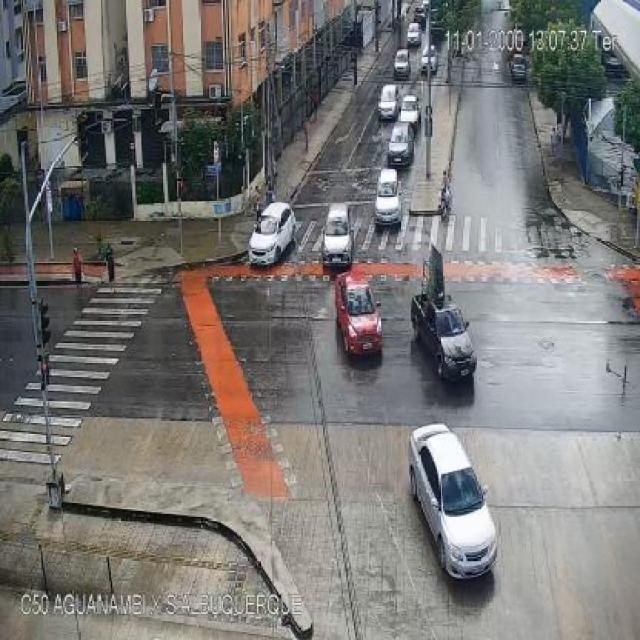Car: (408, 420, 506, 584), (331, 270, 384, 364), (246, 201, 296, 269), (320, 204, 352, 271), (370, 170, 404, 231), (386, 123, 417, 169), (376, 82, 401, 122), (397, 94, 420, 133), (391, 48, 412, 80), (510, 54, 528, 82), (406, 22, 421, 46)
Truck: (409, 243, 481, 377)
